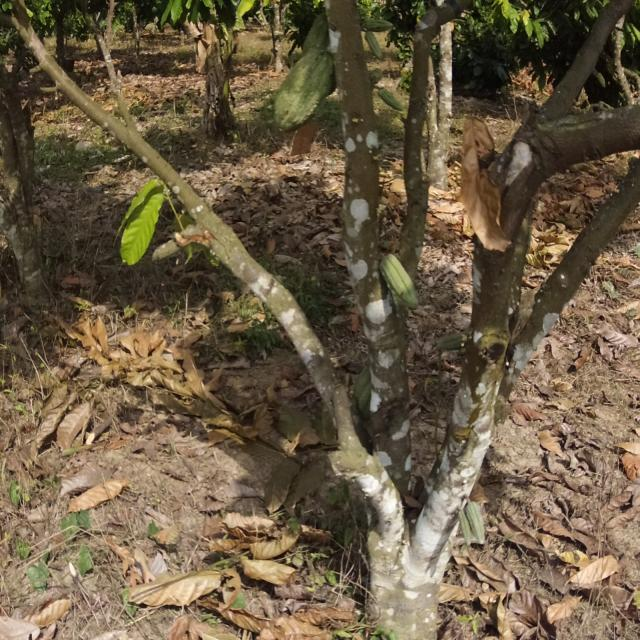Immature: (381, 249, 423, 323), (462, 483, 494, 569)
Mature_Unripe: (271, 46, 341, 139)
